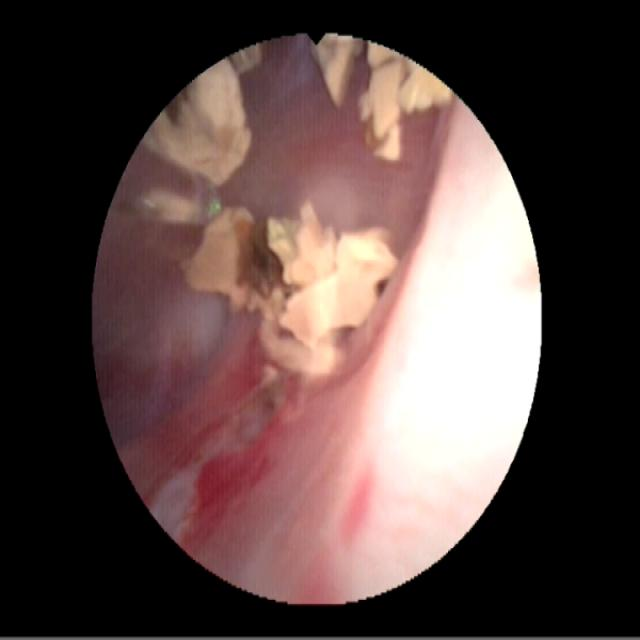stone: (184, 207, 397, 383), (146, 47, 262, 182), (355, 47, 453, 161), (313, 39, 363, 107)
tissue: (97, 157, 401, 597), (251, 54, 437, 242)
